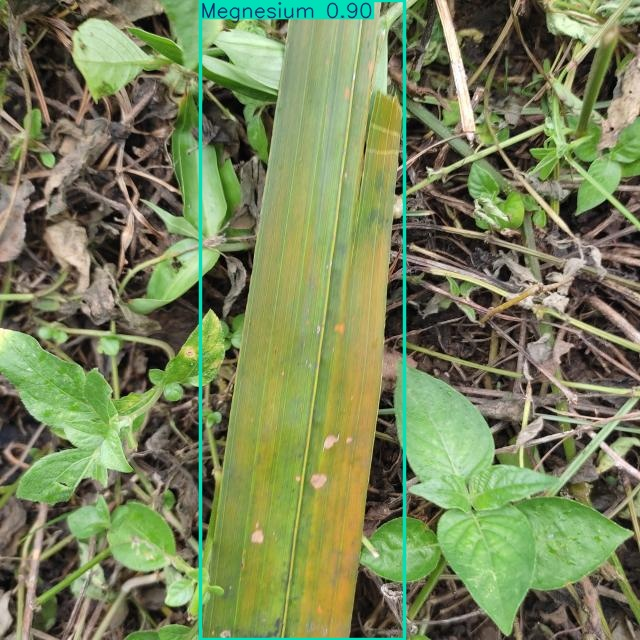Megnesium: (201, 0, 404, 639)
